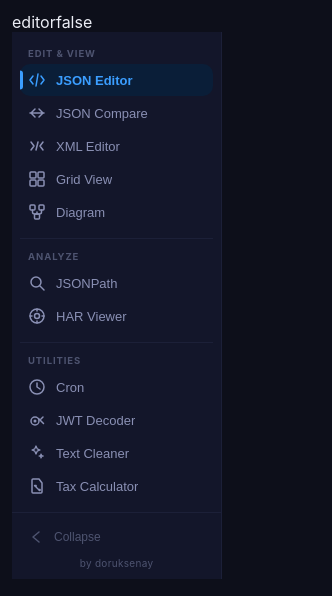
Test: Sidebar › keeps tools clickable while collapsed
Click the button with aria-label "Collapse sidebar" at {"x": 116, "y": 537}, box [20, 521, 213, 553]
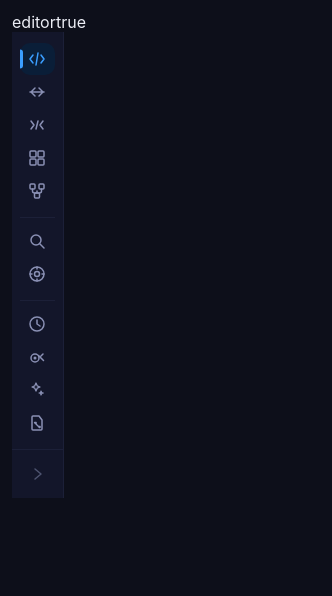
Click the button named "Text Cleaner" at {"x": 38, "y": 390}, box [20, 374, 55, 406]
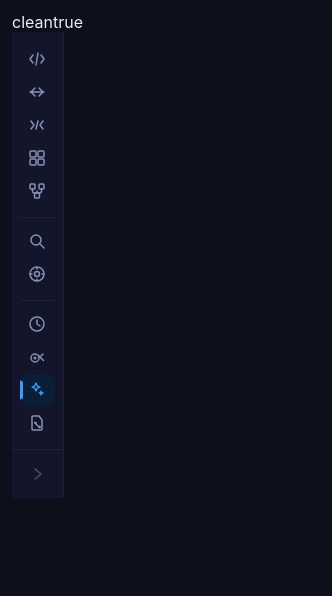
expect the text with test id "active-tab" reads "clean": met, box [12, 12, 53, 32]
